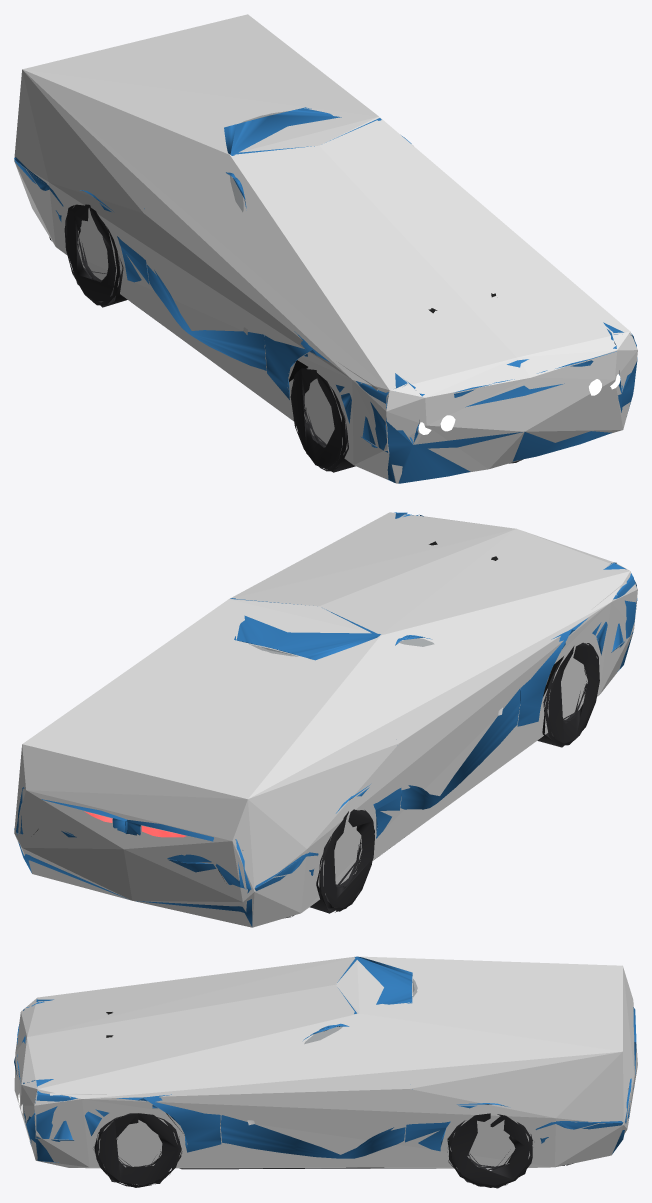
The model's file is arden_ramjet_lod2.glb.
3 renders of one model, top to bottom at view 1: azimuth 30°, elevation 25°; view 2: azimuth 150°, elevation 25°; view 3: azimuth 270°, elevation 25°, orthographic. The views are drawn at different scales.
Parts seen in each view (by area): view 1: col_body, trim, wheel_FR, wheel_RR; view 2: col_body, trim, wheel_RR, wheel_FR; view 3: col_body, trim, wheel_FL, wheel_RL.
Part boxes in pixels (x1,y1,x2,y2): col_body: (14,14,637,483); trim: (14,107,637,483); wheel_FR: (290,367,355,472); wheel_RR: (64,204,127,307); col_body: (14,512,637,927); trim: (14,512,637,926); wheel_RR: (310,809,374,913); wheel_FR: (537,642,599,747); col_body: (14,956,637,1168); trim: (14,956,636,1169); wheel_FL: (93,1113,182,1187); wheel_RL: (447,1113,532,1188).
Size of the model in its own units: 1.86 by 1.36 by 4.94.
